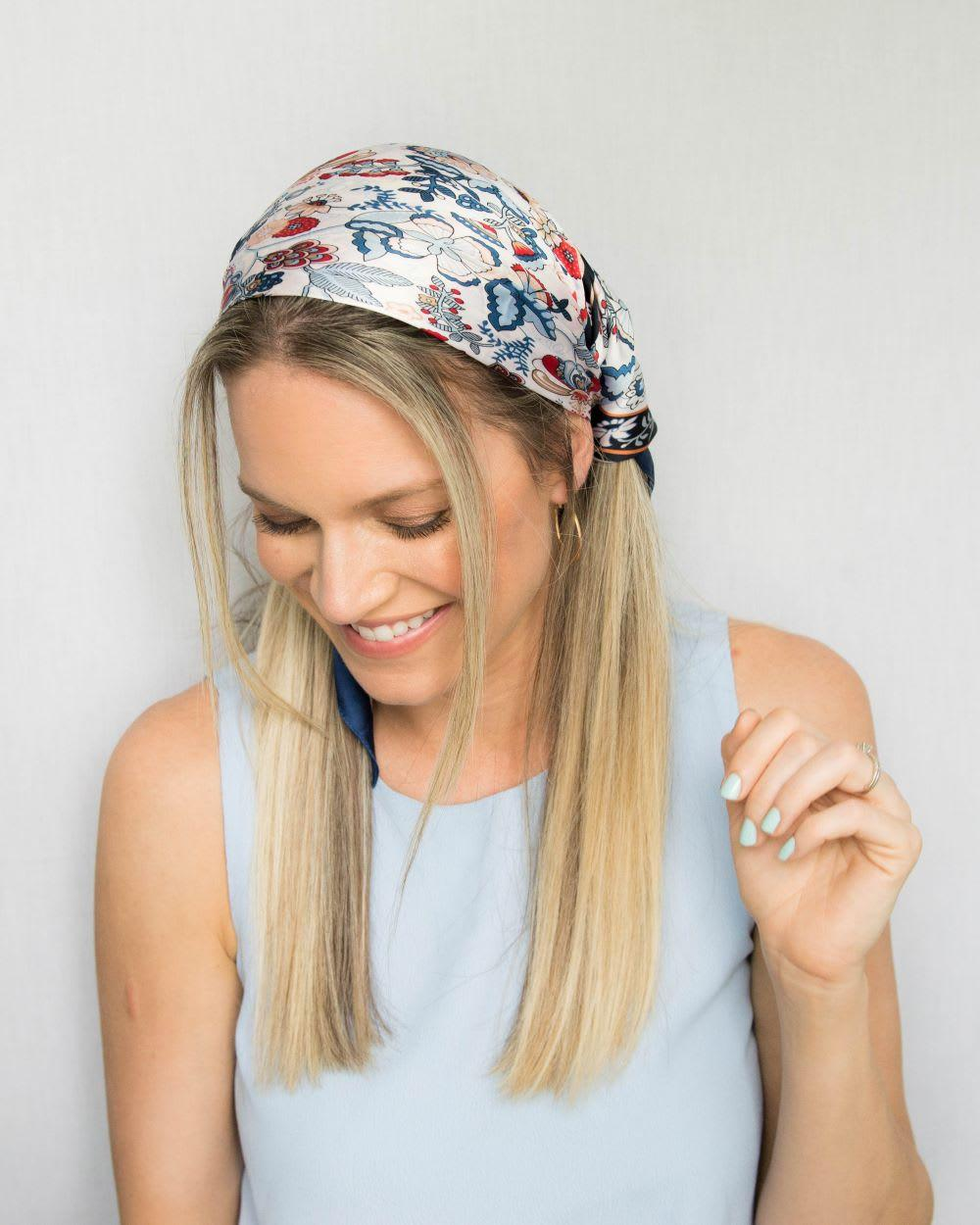cap: (213, 124, 679, 464)
